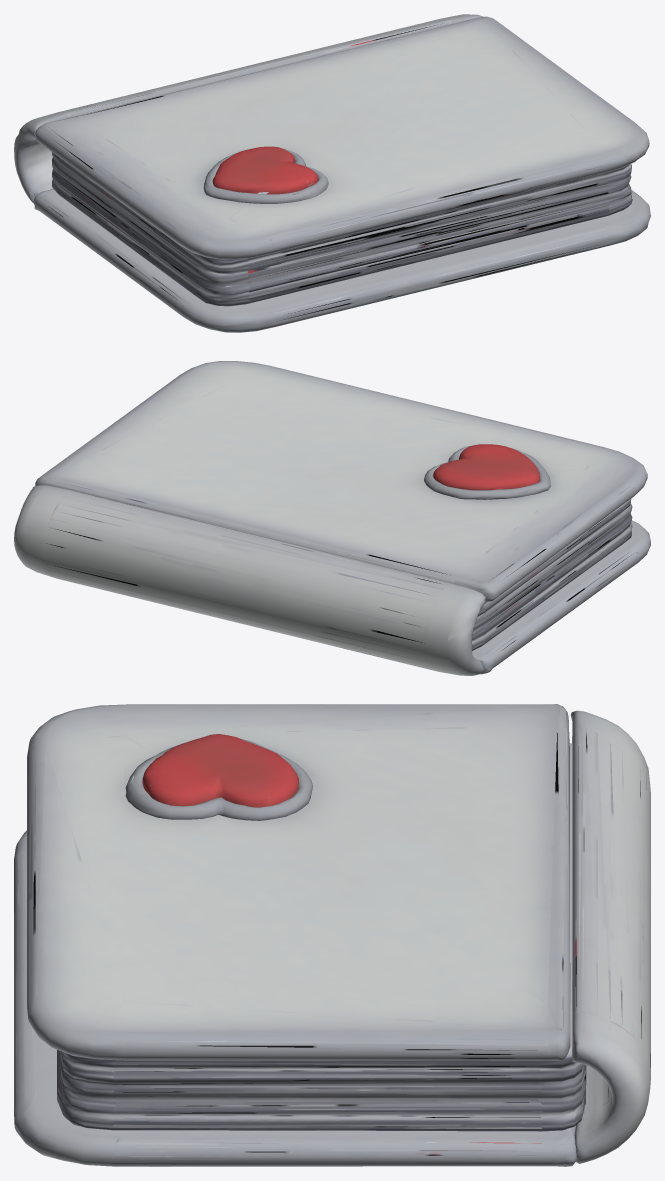
The model's file is note.glb.
3 views of the same model, one above another, from view 1: azimuth 30°, elevation 25°; view 2: azimuth 150°, elevation 25°; view 3: azimuth 270°, elevation 25° (orthographic). The views are drawn at different scales.
Visible parts, largest first — view 1: geometry_0; view 2: geometry_0; view 3: geometry_0.
Boxes of the visible parts, x1,y1,x2,y2 form: geometry_0: [14, 14, 650, 332]; geometry_0: [14, 361, 650, 675]; geometry_0: [14, 704, 650, 1166].
Size of the model in its own units: 0.9497 by 0.1997 by 0.7476.
Materials: 1 (1 with a texture image).
